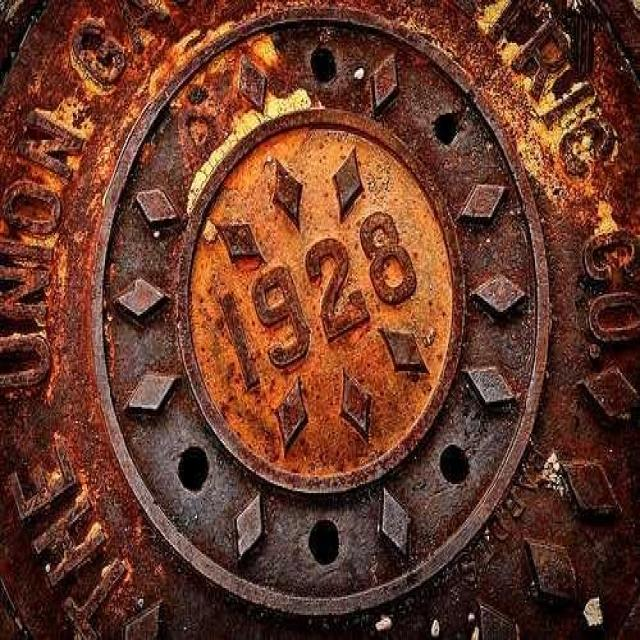manhole: (0, 0, 640, 638)
